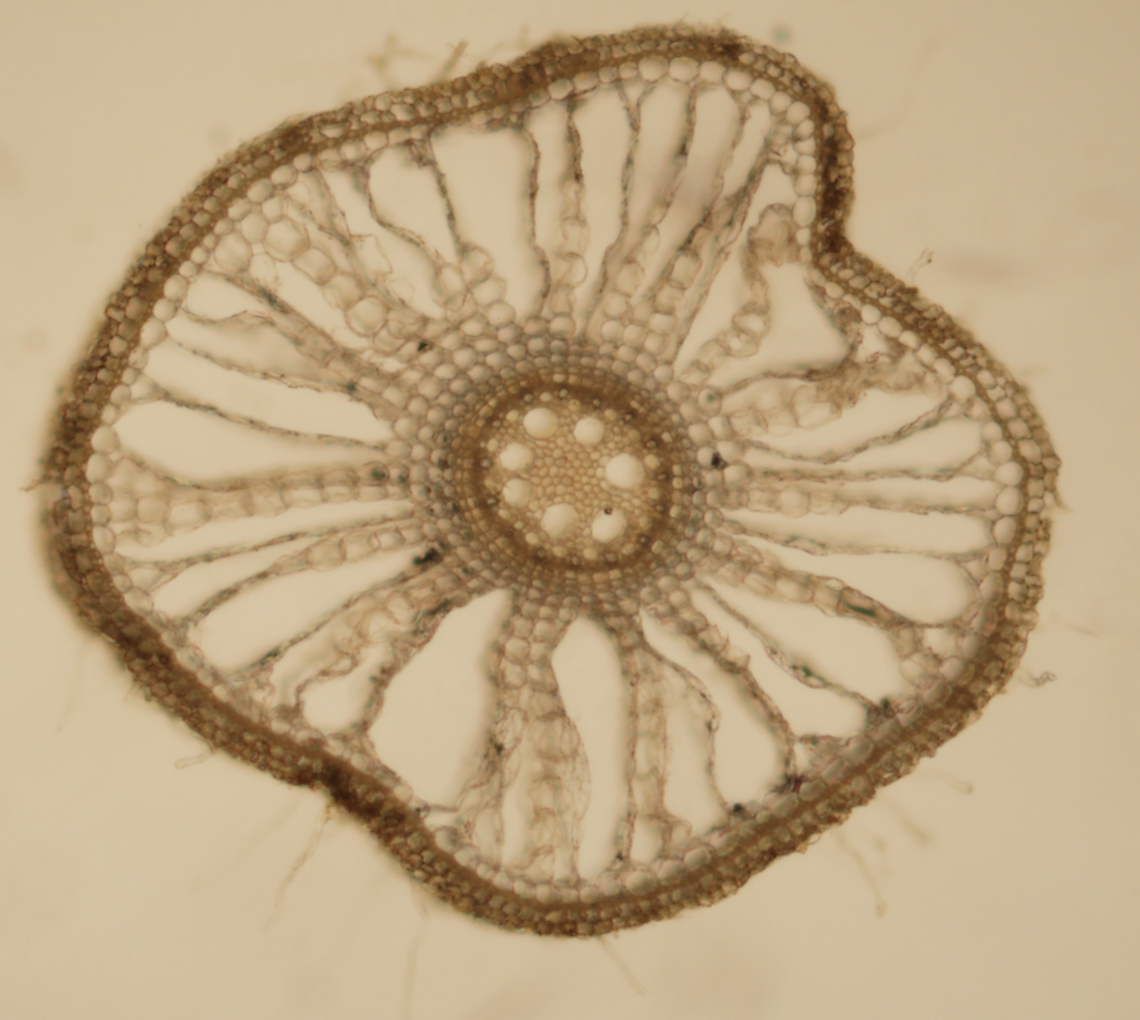lm: (605, 453, 645, 489), (541, 503, 580, 539), (591, 507, 627, 542), (523, 407, 560, 439), (573, 416, 605, 446), (499, 442, 534, 469), (503, 478, 533, 508)
